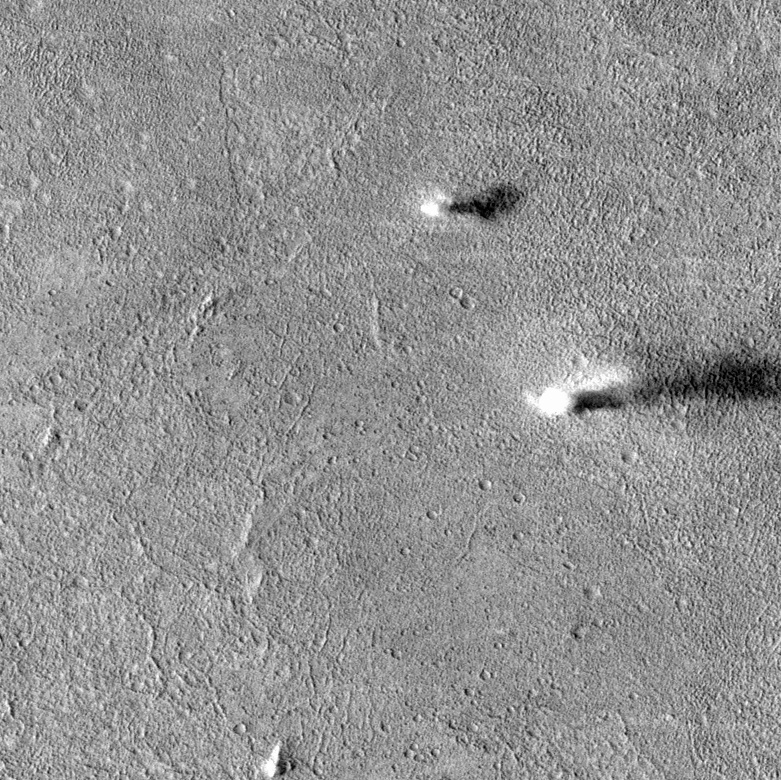dust_devil: (522, 352, 781, 422), (418, 181, 523, 221)
